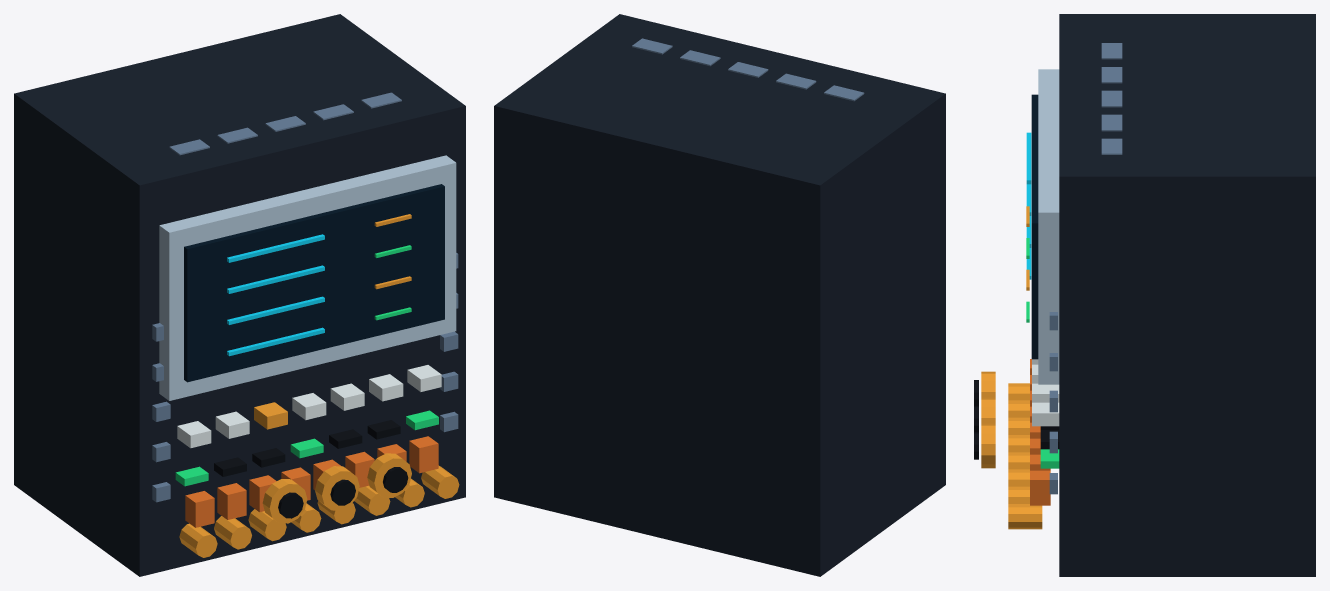
Rendered from 72_L89_ShelterReservePowerDistribution.fbx.
The picture shows the model from 3 angles, left to right: view 1: azimuth 30°, elevation 25°; view 2: azimuth 150°, elevation 25°; view 3: azimuth 270°, elevation 25°; orthographic projection. The views are drawn at different scales.
Parts seen in each view (by area): view 1: L87_ShelterReservePowerDistribution_Part_0000, L87_ShelterReservePowerDistribution_Part_0002, L87_ShelterReservePowerDistribution_Part_0001, L87_ShelterReservePowerDistribution_Part_0004, L87_ShelterReservePowerDistribution_Part_0009, L87_ShelterReservePowerDistribution_Part_0008, L87_ShelterReservePowerDistribution_Part_0006, L87_ShelterReservePowerDistribution_Part_0003, L87_ShelterReservePowerDistribution_Part_0007, L87_ShelterReservePowerDistribution_Part_0005, L87_ShelterReservePowerDistribution_Part_0010, L87_ShelterReservePowerDistribution_Part_0012 (+1 smaller); view 2: L87_ShelterReservePowerDistribution_Part_0000, L87_ShelterReservePowerDistribution_Part_0008; view 3: L87_ShelterReservePowerDistribution_Part_0000, L87_ShelterReservePowerDistribution_Part_0001, L87_ShelterReservePowerDistribution_Part_0004, L87_ShelterReservePowerDistribution_Part_0008, L87_ShelterReservePowerDistribution_Part_0002, L87_ShelterReservePowerDistribution_Part_0009, L87_ShelterReservePowerDistribution_Part_0006, L87_ShelterReservePowerDistribution_Part_0003, L87_ShelterReservePowerDistribution_Part_0014, L87_ShelterReservePowerDistribution_Part_0005.
Part boxes in pixels (box(x1,y1,x2,y2)): L87_ShelterReservePowerDistribution_Part_0000: box(14, 14, 465, 576); L87_ShelterReservePowerDistribution_Part_0002: box(184, 184, 444, 382); L87_ShelterReservePowerDistribution_Part_0001: box(159, 155, 456, 400); L87_ShelterReservePowerDistribution_Part_0004: box(179, 214, 459, 557); L87_ShelterReservePowerDistribution_Part_0009: box(185, 436, 438, 527); L87_ShelterReservePowerDistribution_Part_0008: box(152, 92, 458, 502); L87_ShelterReservePowerDistribution_Part_0006: box(177, 365, 441, 448); L87_ShelterReservePowerDistribution_Part_0003: box(227, 234, 324, 356); L87_ShelterReservePowerDistribution_Part_0007: box(214, 420, 400, 476); L87_ShelterReservePowerDistribution_Part_0005: box(175, 245, 438, 486); L87_ShelterReservePowerDistribution_Part_0010: box(262, 479, 307, 523); L87_ShelterReservePowerDistribution_Part_0012: box(315, 466, 359, 510); L87_ShelterReservePowerDistribution_Part_0000: box(494, 14, 945, 576); L87_ShelterReservePowerDistribution_Part_0008: box(632, 38, 864, 101); L87_ShelterReservePowerDistribution_Part_0000: box(1059, 14, 1315, 576); L87_ShelterReservePowerDistribution_Part_0001: box(1038, 69, 1059, 384); L87_ShelterReservePowerDistribution_Part_0004: box(1008, 206, 1042, 529); L87_ShelterReservePowerDistribution_Part_0008: box(1049, 43, 1122, 494); L87_ShelterReservePowerDistribution_Part_0002: box(1031, 94, 1038, 359); L87_ShelterReservePowerDistribution_Part_0009: box(1030, 359, 1050, 505); L87_ShelterReservePowerDistribution_Part_0006: box(1032, 359, 1059, 426); L87_ShelterReservePowerDistribution_Part_0003: box(1026, 132, 1031, 279); L87_ShelterReservePowerDistribution_Part_0014: box(981, 423, 995, 468); L87_ShelterReservePowerDistribution_Part_0005: box(1026, 238, 1059, 468).
Bounding box in the file's own units: 112 × 129 × 99.6.
